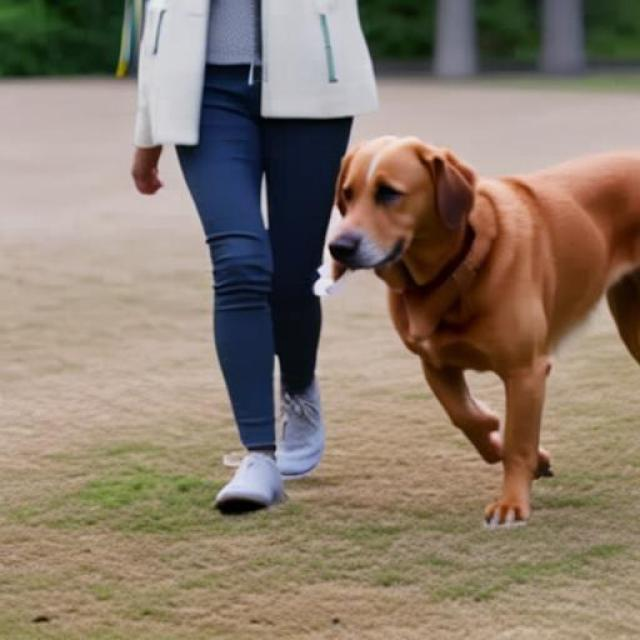Unleashed_Dog: (172, 67, 640, 530)
